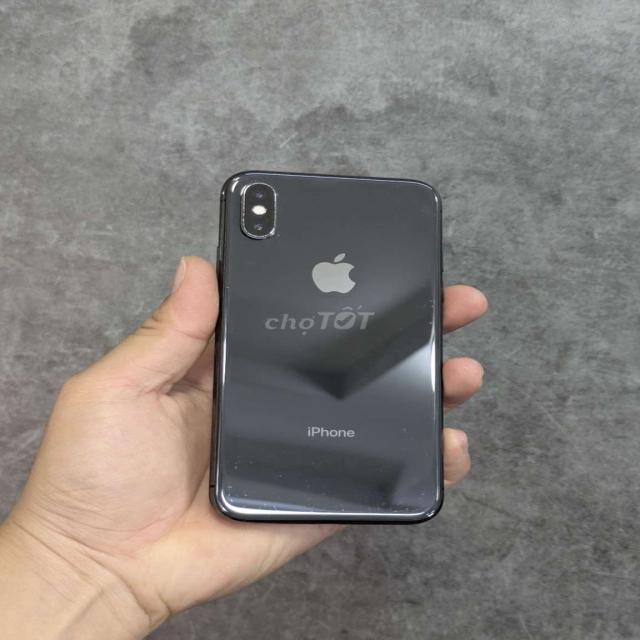scratch: (272, 470, 322, 496), (354, 497, 418, 513), (408, 488, 438, 512), (226, 484, 259, 504), (226, 454, 252, 473), (299, 456, 324, 474), (418, 293, 438, 311), (264, 221, 286, 237), (392, 180, 412, 193), (395, 443, 410, 458), (220, 278, 232, 292), (270, 500, 287, 509), (423, 446, 433, 461), (306, 501, 319, 511), (340, 504, 350, 516), (399, 416, 407, 431), (427, 317, 435, 330)
